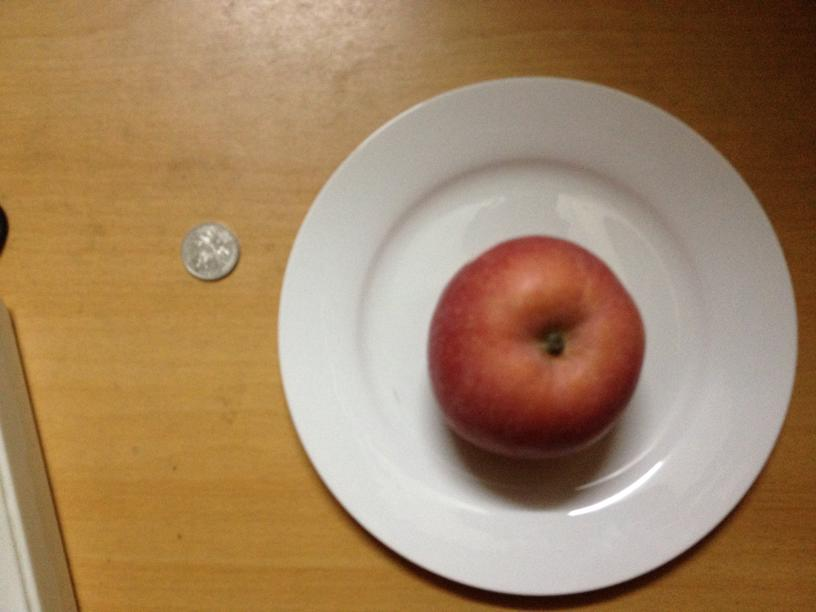apple: (432, 234, 645, 457)
coin: (176, 222, 241, 281)
